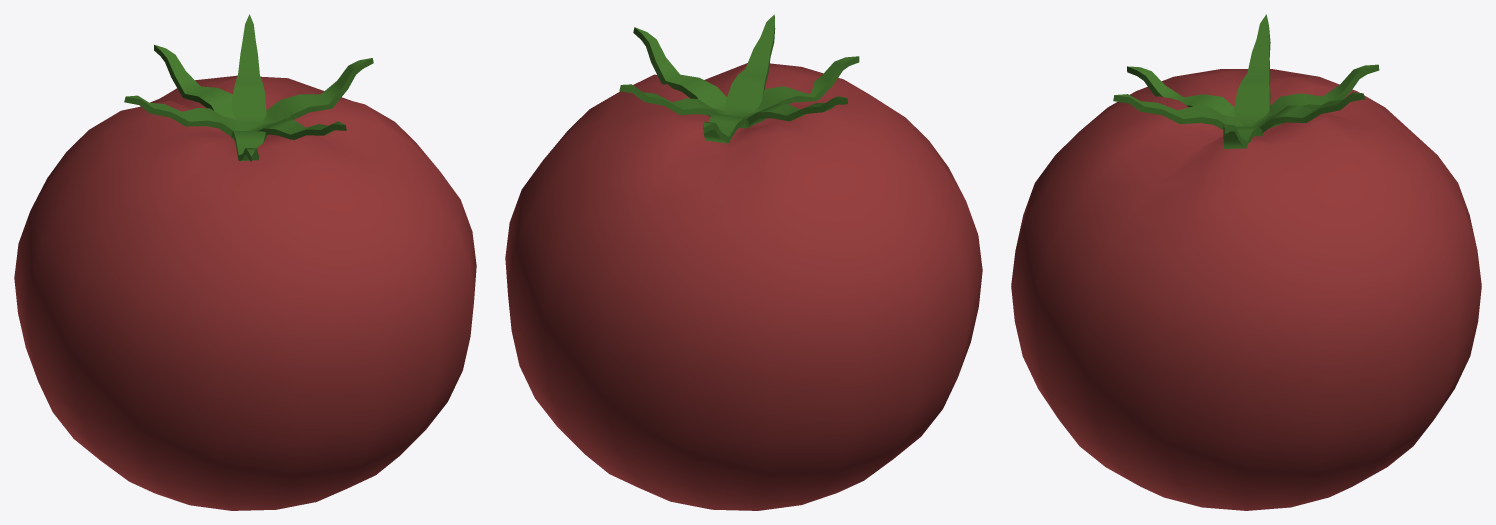
File: tomaat.fbx
3 views of the same model, side by side, from view 1: azimuth 30°, elevation 25°; view 2: azimuth 150°, elevation 25°; view 3: azimuth 270°, elevation 25° (orthographic). The views are drawn at different scales.
Visible parts, largest first — view 1: pCube4; view 2: pCube4; view 3: pCube4.
Part boxes in pixels (x1=…): pCube4: x1=14, y1=14, x2=476, y2=510; pCube4: x1=505, y1=14, x2=982, y2=510; pCube4: x1=1011, y1=14, x2=1481, y2=510.
Bounding box in the file's own units: 2.39 × 2.35 × 2.4.
